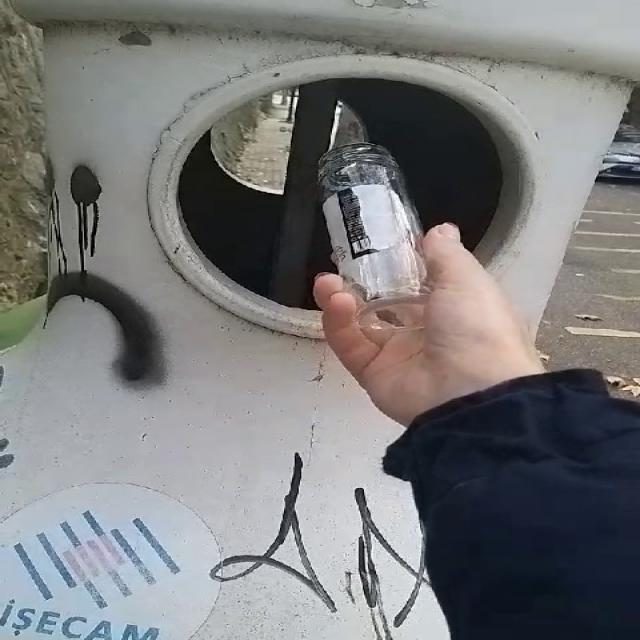Glass: (319, 142, 429, 342)
